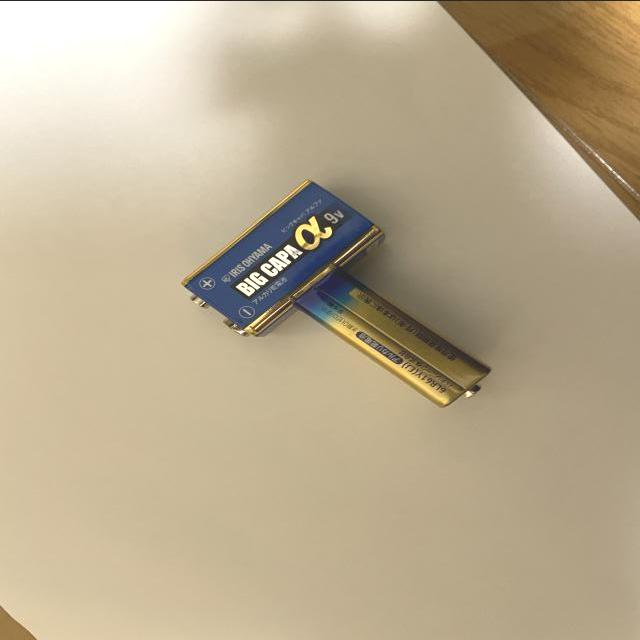9V: (180, 178, 385, 336), (292, 264, 493, 407)
